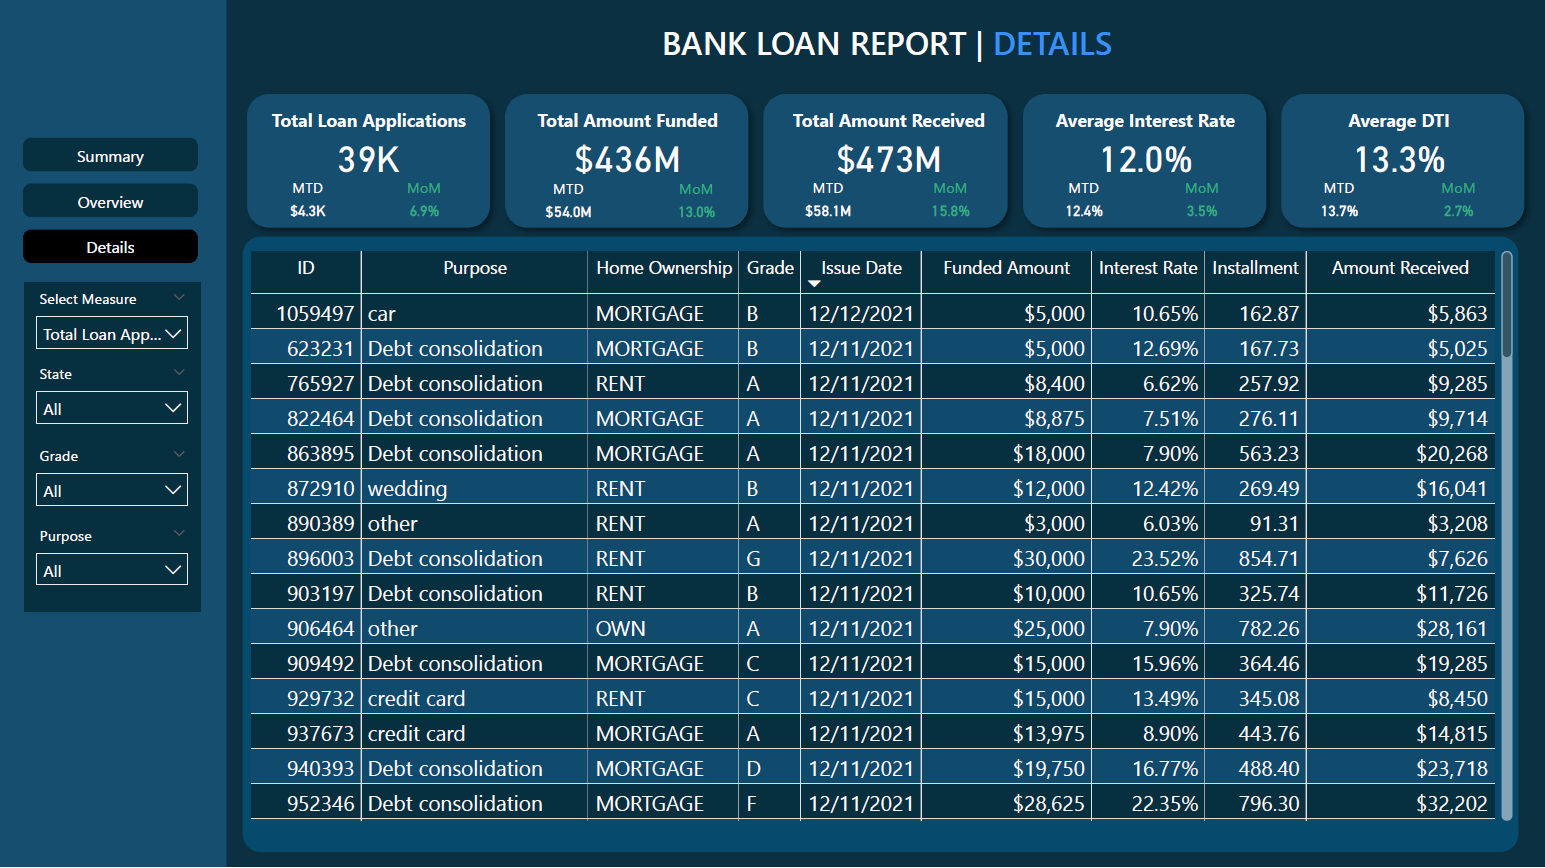

The dashboard page shown, as its layout file describes it:
{"tool":"powerbi","page":{"name":"Details","canvas":[1280,720],"ordinal":2},"visuals":[{"type":"shape","box":[201.4,195.5,1056.5,510.7],"z":0},{"type":"textbox","box":[190.4,11.5,1089.3,50.5],"z":1000},{"type":"card","title":"Total Loan Applications","fields":{"Values":["bankloan data.Total Loan Applications"]},"box":[200.5,89.5,209.2,62],"z":2000},{"type":"card","title":"MTD","fields":{"Values":["bankloan data.MTD Total Loan Applications"]},"box":[200.5,142.8,108.2,51.9],"z":3000},{"type":"card","title":"MoM","fields":{"Values":["bankloan data.MoM Total Loan Applications"]},"box":[292.9,142.8,116.9,51.9],"z":4000},{"type":"card","title":"Total Amount Funded","fields":{"Values":["bankloan data.Total Funded Amount"]},"box":[421.3,89.5,197.7,62],"z":5000},{"type":"card","title":"MTD","fields":{"Values":["bankloan data.MTD Total Funded Amount"]},"box":[421.3,144.3,99.6,50.5],"z":6000},{"type":"card","title":"MoM","fields":{"Values":["bankloan data.MoM Total Funded Amount"]},"box":[535.3,144.3,83.7,50.5],"z":7000},{"type":"card","title":"Total Amount Received","fields":{"Values":["bankloan data.Total Amount Received"]},"box":[640.6,89.5,191.9,62],"z":8000},{"type":"card","title":"MTD","fields":{"Values":["bankloan data.MTD Total Amount Received"]},"box":[640.6,142.8,90.9,51.9],"z":9000},{"type":"card","title":"MoM","fields":{"Values":["bankloan data.MoM Total Received"]},"box":[743,142.8,89.5,51.9],"z":10000},{"type":"card","title":"Average Interest Rate","fields":{"Values":["bankloan data.AVG Int Rate"]},"box":[851.2,89.5,196.2,62],"z":11000},{"type":"card","title":"MTD","fields":{"Values":["bankloan data.MTD avg int rate"]},"box":[851.2,142.8,93.8,51.9],"z":12000},{"type":"card","title":"MoM","fields":{"Values":["bankloan data.MoM avg int rate"]},"box":[945,142.8,102.4,51.9],"z":13000},{"type":"card","title":"Average DTI","fields":{"Values":["bankloan data.avg dti"]},"box":[1060.4,89.5,197.7,62],"z":14000},{"type":"card","title":"MTD","fields":{"Values":["bankloan data.MTD avg dti"]},"box":[1060.4,142.8,98.1,51.9],"z":15000},{"type":"card","title":"MoM","fields":{"Values":["bankloan data.MoM avg dti"]},"box":[1158.5,142.8,99.6,51.9],"z":16000},{"type":"slicer","fields":{"Values":["bankloan data.address_state"]},"box":[19.9,296.3,145.7,76.5],"z":17000},{"type":"slicer","fields":{"Values":["bankloan data.grade"]},"box":[19.9,364.2,145.7,76.5],"z":18000},{"type":"slicer","fields":{"Values":["bankloan data.purpose"]},"box":[19.9,430.2,145.7,76.5],"z":19000},{"type":"slicer","fields":{"Values":["Select Measure.Select Measure"]},"box":[19.9,233.7,145.7,62],"z":20000},{"type":"tableEx","fields":{"Values":["bankloan data.id","bankloan data.purpose","bankloan data.home_ownership","bankloan data.grade","bankloan data.issue_date","bankloan data.Total Funded Amount","bankloan data.int_rate","bankloan data.installment","bankloan data.Total Amount Received"]},"box":[202,203.4,1056.1,481.9],"z":21000},{"type":"pageNavigator","box":[18.8,114,145.7,105.3],"z":22000}]}

Visuals, with their boxes on the page's 1280x720 design canvas (x1, y1, x2, y2). These are canvas units, not pixel positions in the 1545x868 screenshot, which may show the page scaled, cropped or inside an application window:
shape: l=201, t=196, r=1258, b=706
textbox: l=190, t=12, r=1280, b=62
"Total Loan Applications" card: l=200, t=90, r=410, b=152
"MTD" card: l=200, t=143, r=309, b=195
"MoM" card: l=293, t=143, r=410, b=195
"Total Amount Funded" card: l=421, t=90, r=619, b=152
"MTD" card: l=421, t=144, r=521, b=195
"MoM" card: l=535, t=144, r=619, b=195
"Total Amount Received" card: l=641, t=90, r=832, b=152
"MTD" card: l=641, t=143, r=732, b=195
"MoM" card: l=743, t=143, r=832, b=195
"Average Interest Rate" card: l=851, t=90, r=1047, b=152
"MTD" card: l=851, t=143, r=945, b=195
"MoM" card: l=945, t=143, r=1047, b=195
"Average DTI" card: l=1060, t=90, r=1258, b=152
"MTD" card: l=1060, t=143, r=1158, b=195
"MoM" card: l=1158, t=143, r=1258, b=195
slicer - bankloan data.address_state: l=20, t=296, r=166, b=373
slicer - bankloan data.grade: l=20, t=364, r=166, b=441
slicer - bankloan data.purpose: l=20, t=430, r=166, b=507
slicer - Select Measure.Select Measure: l=20, t=234, r=166, b=296
tableEx - bankloan data.id x bankloan data.purpose: l=202, t=203, r=1258, b=685
pageNavigator: l=19, t=114, r=164, b=219
